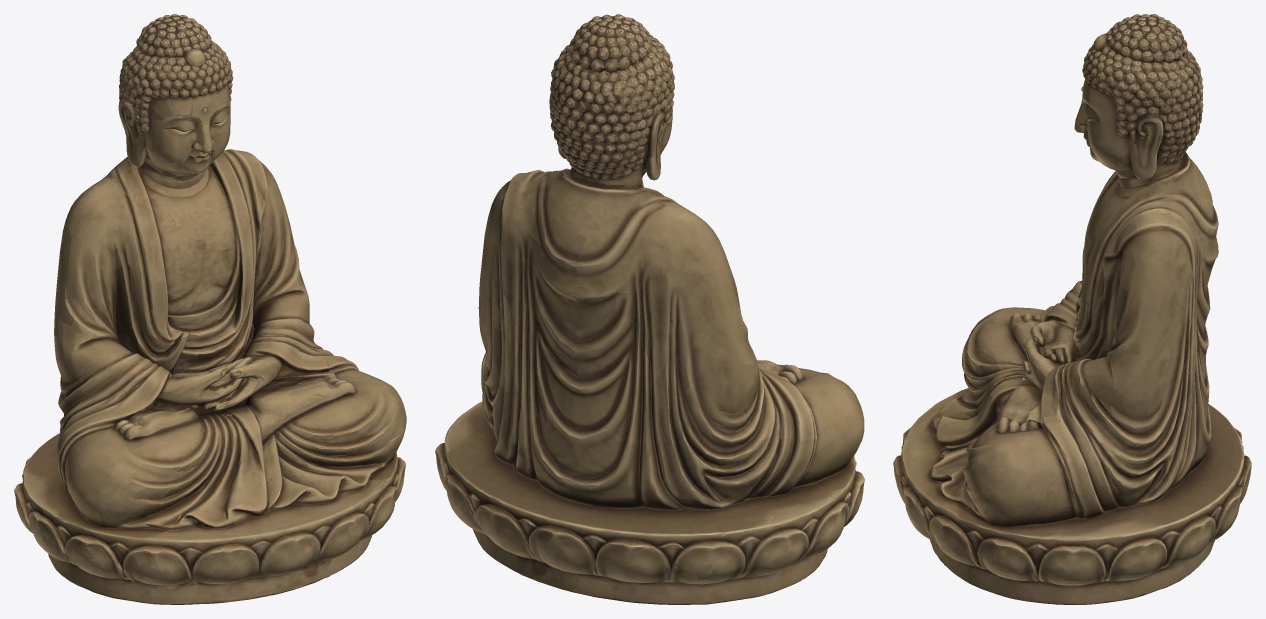
Rendered from statue-amita.glb.
The picture shows the model from 3 angles, left to right: view 1: azimuth 30°, elevation 25°; view 2: azimuth 150°, elevation 25°; view 3: azimuth 270°, elevation 25°; orthographic projection. The views are drawn at different scales.
Parts seen in each view (by area): view 1: output_unwrapped; view 2: output_unwrapped; view 3: output_unwrapped.
Boxes of the visible parts, x1,y1,x2,y2 form: output_unwrapped: (14, 14, 406, 604); output_unwrapped: (435, 14, 864, 604); output_unwrapped: (893, 14, 1251, 604).
Bounding box in the file's own units: 1.39 × 1.9 × 1.2.
1 material, 1 textured.
